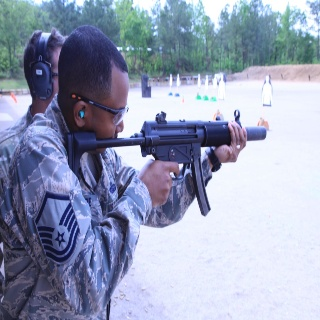rifle: (65, 109, 268, 215)
